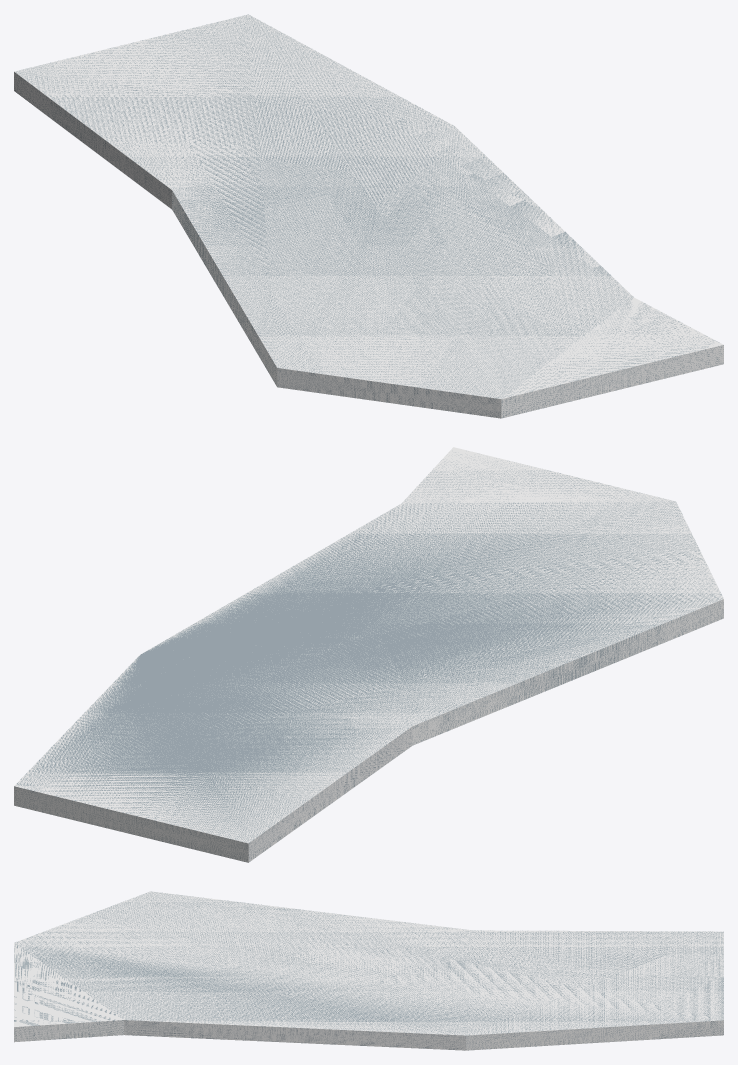
File: ScenarioBaseExtrudedTricky.dae
3 renders of one model, top to bottom at view 1: azimuth 30°, elevation 25°; view 2: azimuth 150°, elevation 25°; view 3: azimuth 270°, elevation 25°, orthographic. The views are drawn at different scales.
Parts seen in each view (by area): view 1: SketchUp; view 2: SketchUp; view 3: SketchUp.
Boxes of the visible parts, left/top/right/bottom form: SketchUp: left=14, top=14, right=723, bottom=418; SketchUp: left=14, top=447, right=723, bottom=862; SketchUp: left=14, top=891, right=723, bottom=1050.
Bounding box in the file's own units: 40.41 × 84.05 × 1.97.
